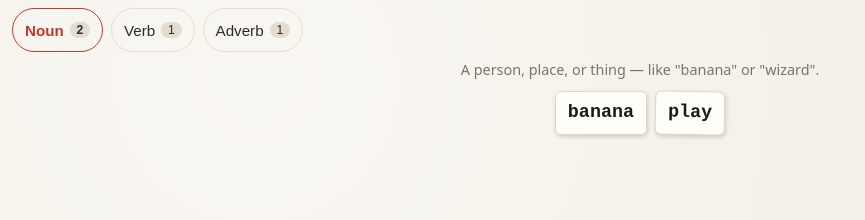
Test: PosTabs › switches tiles when another tab is clicked
Click the tab "Verb 1" at {"x": 153, "y": 30}, box 111,8 -> 194,52
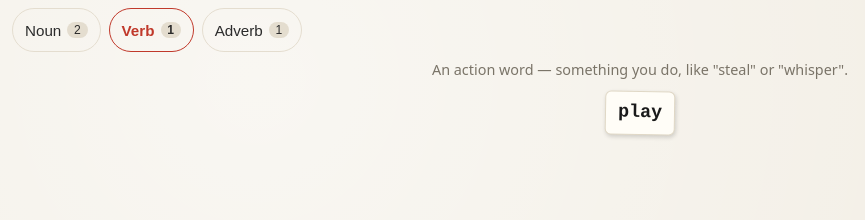
Check: the text "An action word — something you do, like \"steal\" or \"whisper\"." is shown, box 432,60 -> 848,79
